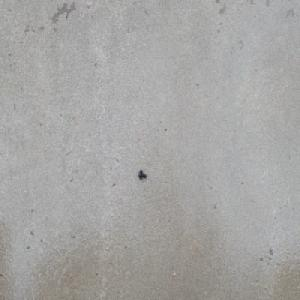BoltWasher: (137, 169, 146, 180)
